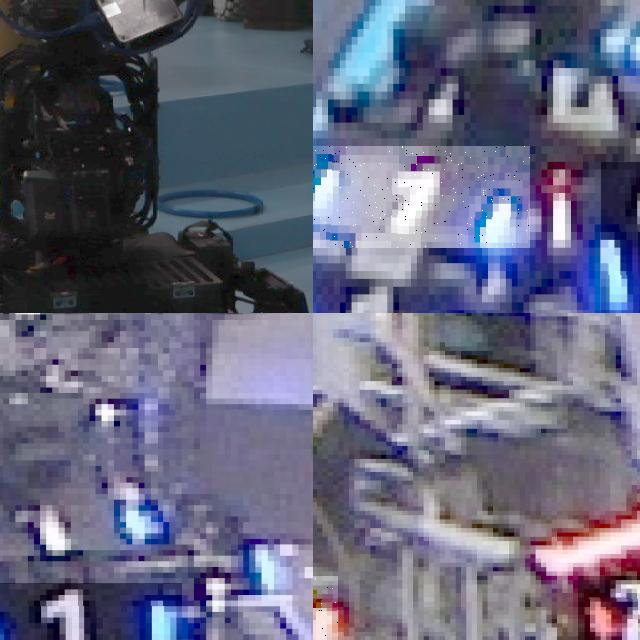B1: (313, 146, 529, 247), (0, 583, 181, 640), (313, 271, 482, 313), (600, 162, 640, 313)
R2: (578, 575, 640, 640), (313, 575, 338, 640)
